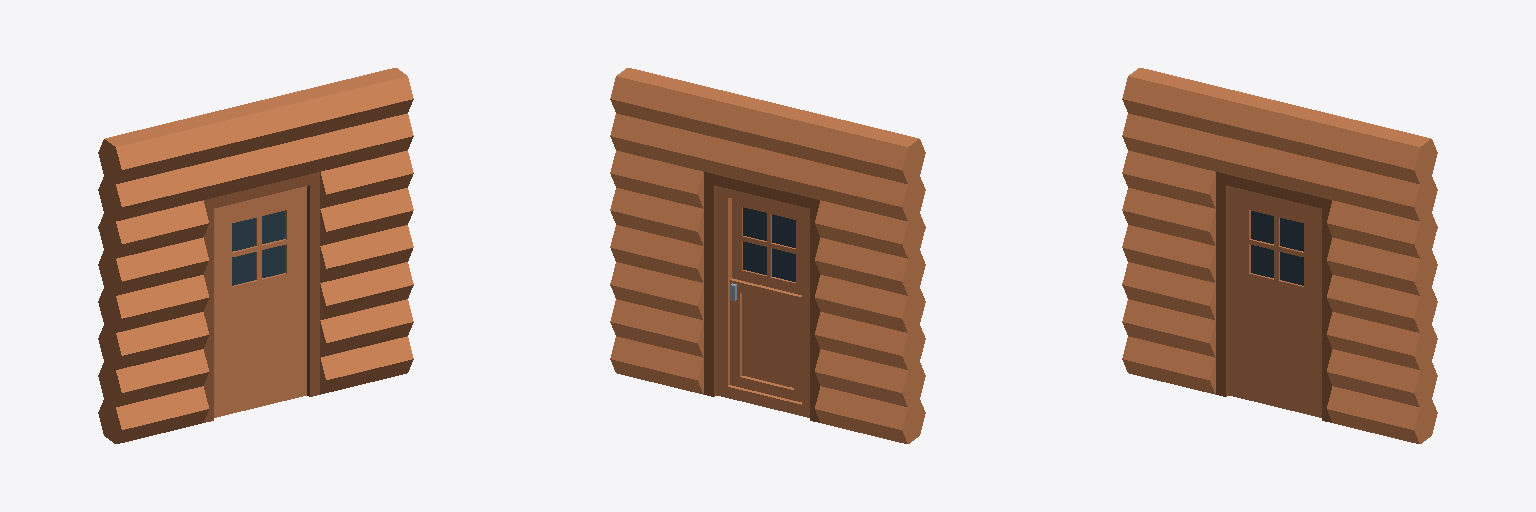
3 renders of one model, left to right at view 1: azimuth 30°, elevation 25°; view 2: azimuth 150°, elevation 25°; view 3: azimuth 330°, elevation 25°, orthographic.
Visible parts, largest first — view 1: cabinDoor, door, frame; view 2: cabinDoor, door, frame; view 3: cabinDoor, door, frame.
Part boxes in pixels (left/top/right/bottom): cabinDoor: left=98, top=68, right=413, bottom=443; door: left=214, top=186, right=306, bottom=417; frame: left=204, top=172, right=319, bottom=422; cabinDoor: left=610, top=68, right=925, bottom=443; door: left=717, top=186, right=809, bottom=417; frame: left=704, top=172, right=819, bottom=422; cabinDoor: left=1122, top=68, right=1437, bottom=443; door: left=1229, top=186, right=1321, bottom=417; frame: left=1216, top=172, right=1331, bottom=422.
Bounding box in the file's own units: 1 × 0.9727 × 0.1404.